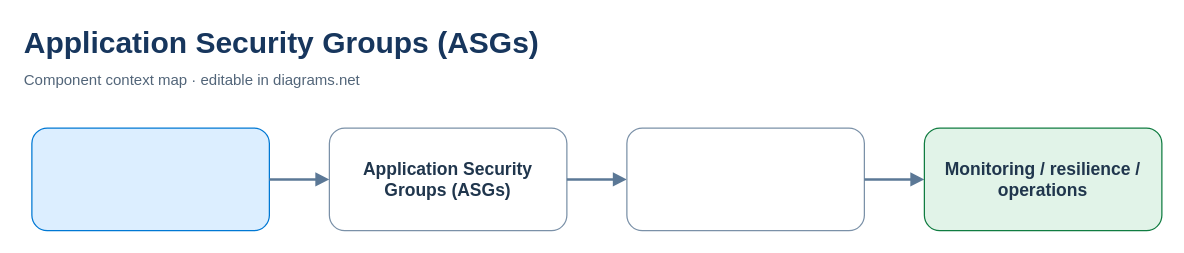
Image size: 1184x253. Some labels were removed from this diagram. Each missing label, with the centre of its shape:
"C · Networking & Private Connectivity" belongs at point (150, 179).
"Identity / network / governance controls" belongs at point (745, 179).
